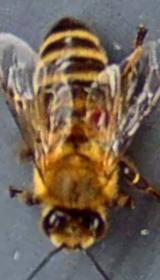varroa_mite: (83, 101, 118, 138)
